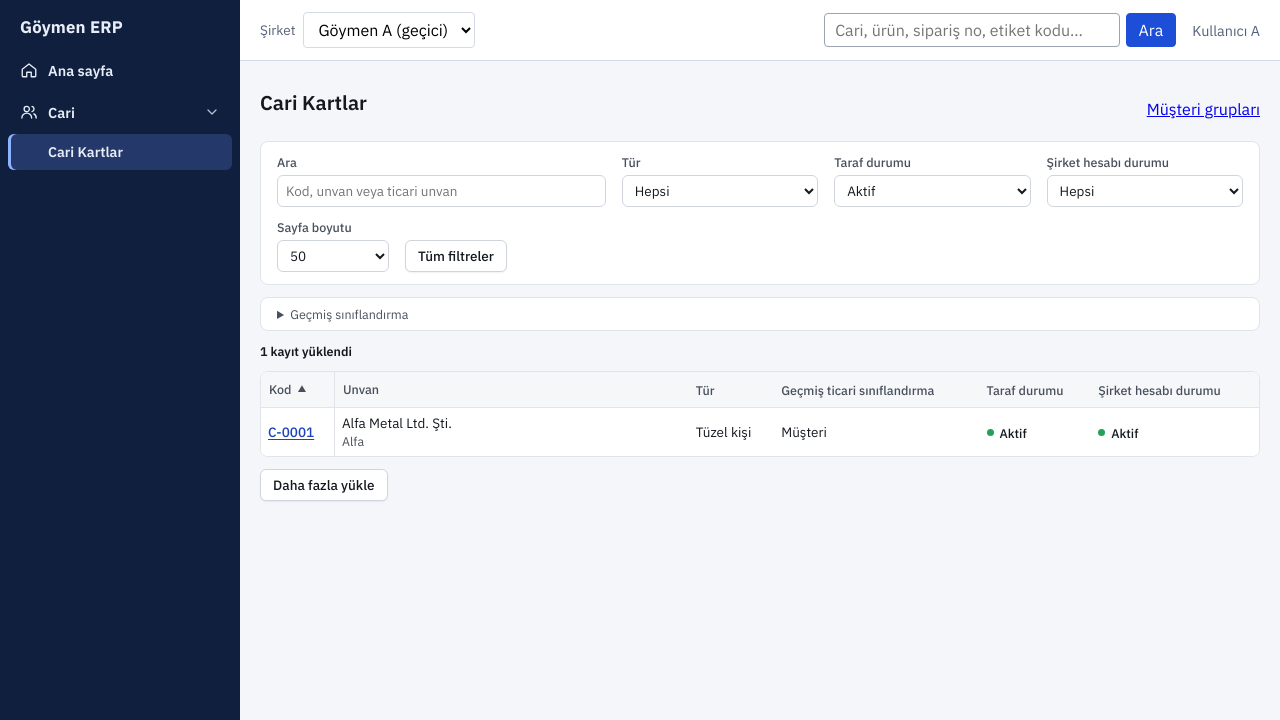
Scenario: C-01 paging › loads the next cursor page and appends without duplicating rows
This screenshot has width=1280, height=720.
Expected: the row "C-0001" is shown, x1=261 y1=408 x2=1259 y2=456
Click the button "Daha fazla yükle".
click(324, 485)  # box x1=260 y1=469 x2=388 y2=501
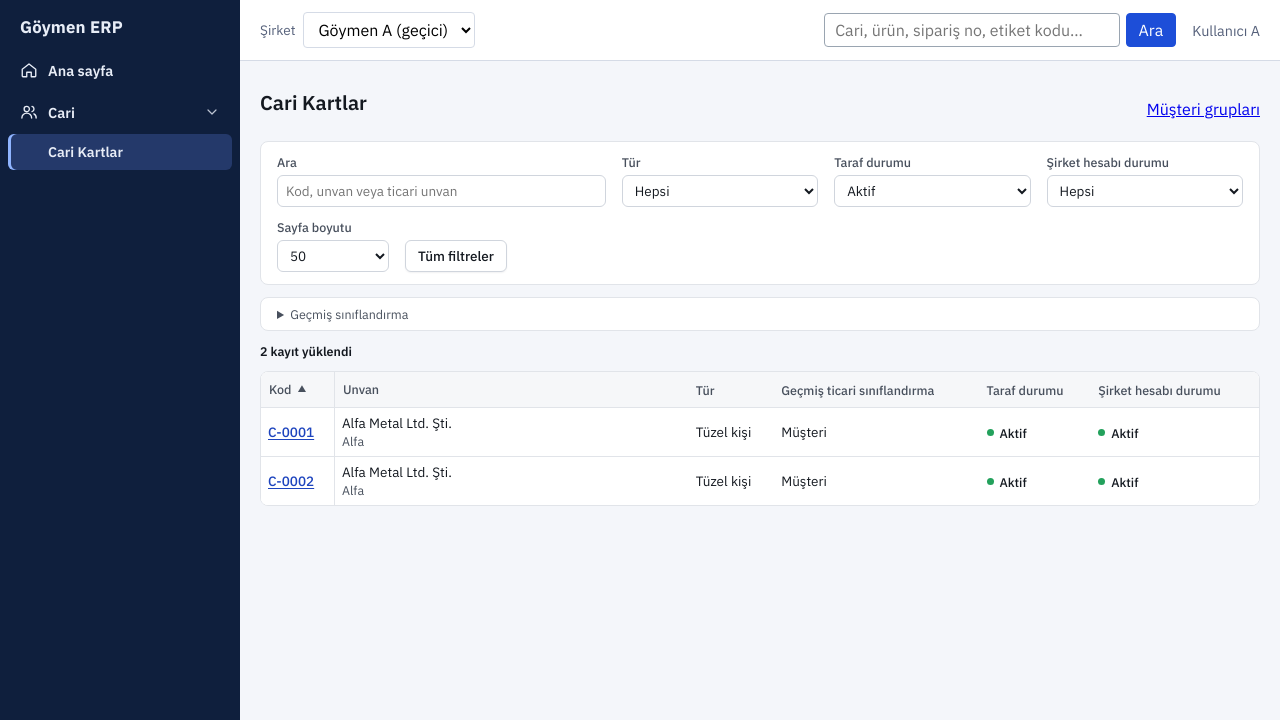
Result: the row "C-0002" is shown at x1=261 y1=457 x2=1259 y2=505
Result: the number of rows "C-0001" is 1 at x1=261 y1=408 x2=1259 y2=457
